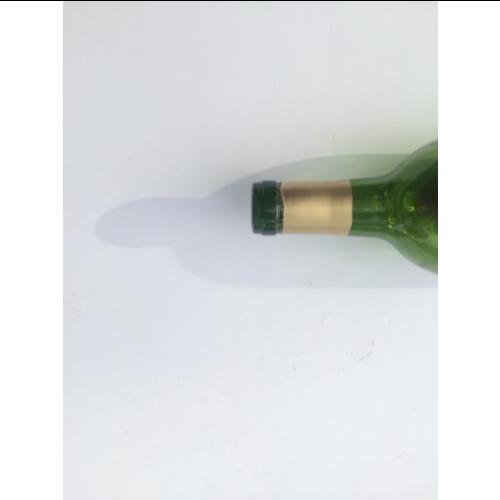glass: (256, 138, 438, 273)
